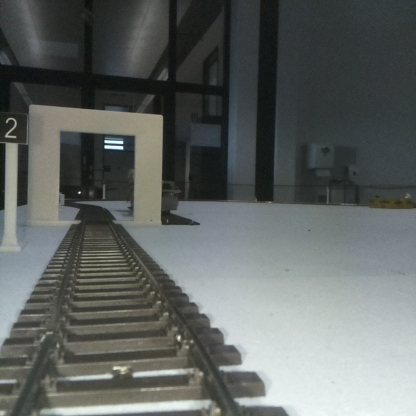black-info-2: (0, 113, 26, 249)
